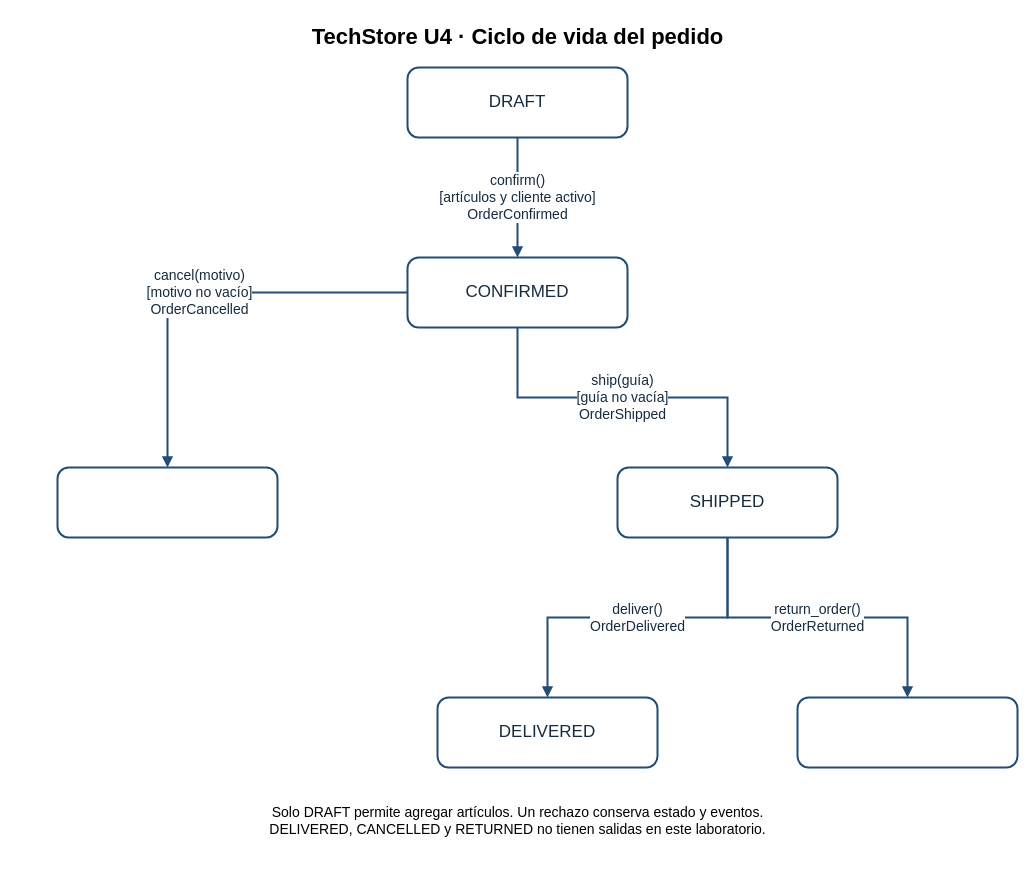
This 1035x869 diagram has some shape labels left out. The shapes that lost their labels are listed below. From the top down, each one's centre as x and y in pixels, then its label:
[167,502]: CANCELLED
[907,732]: RETURNED
